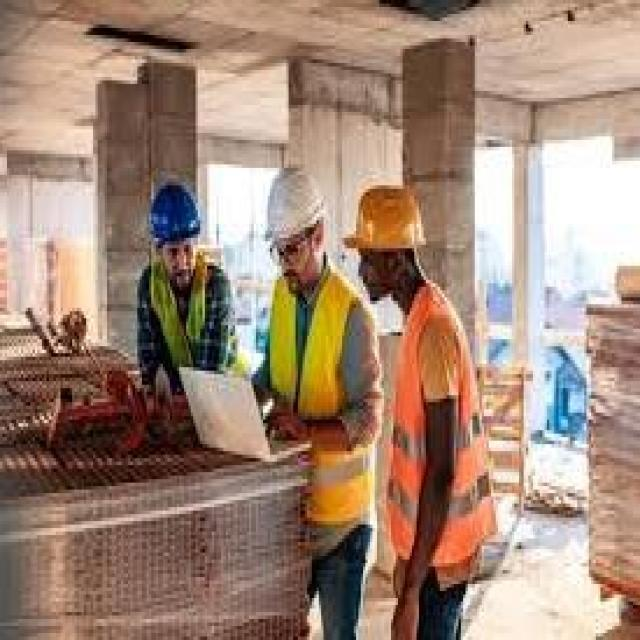reflective_jacket: (374, 276, 493, 584), (258, 262, 383, 521), (128, 255, 246, 402)
safety_helmet: (344, 161, 435, 273), (255, 157, 333, 251), (137, 171, 211, 255)
